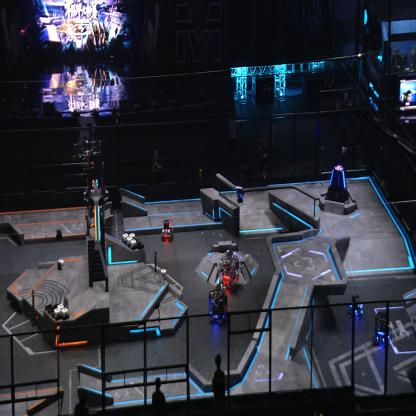car: (218, 247, 240, 293), (372, 307, 393, 348), (207, 286, 228, 326), (348, 293, 362, 319), (161, 218, 173, 240)
